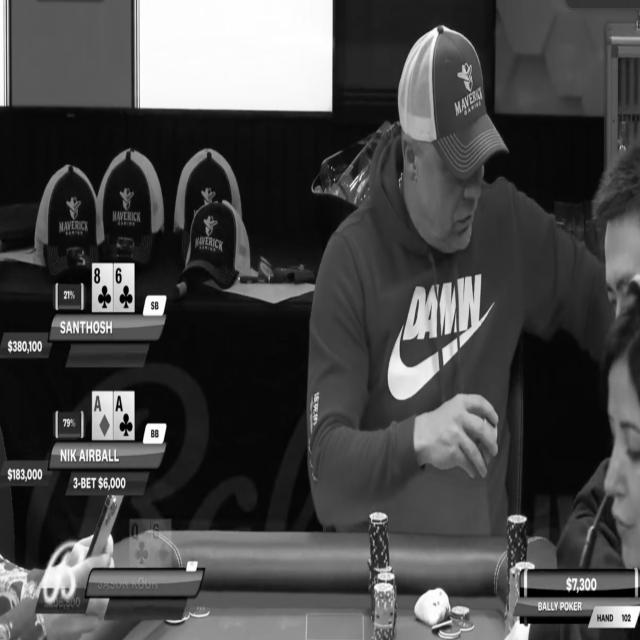6C: (114, 264, 134, 312)
8C: (93, 263, 112, 312)
AC: (114, 391, 134, 440)
AD: (92, 391, 112, 441)
